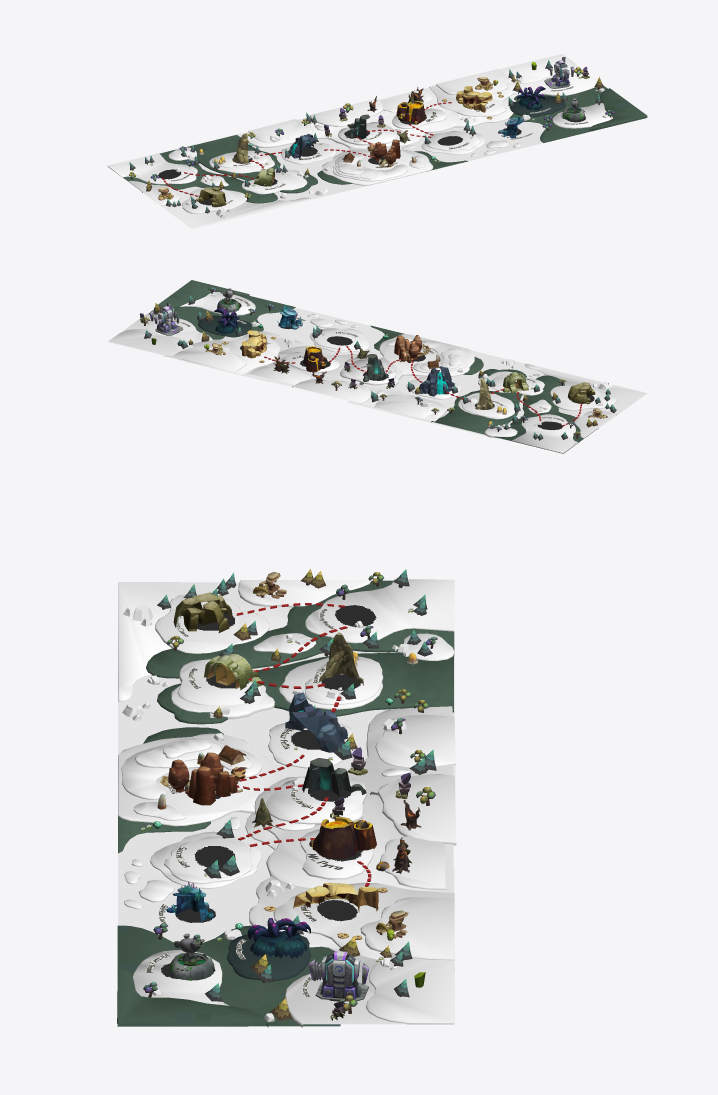
File: 06_02_Dia_Hinh_Lien_Luc_Dia.glb
The picture shows the model from 3 angles, top to bottom: view 1: azimuth 30°, elevation 25°; view 2: azimuth 150°, elevation 25°; view 3: azimuth 270°, elevation 25°; orthographic projection. The views are drawn at different scales.
Parts seen in each view (by area): view 1: 06_02_Dia_Hinh_Lien_Luc_Dia; view 2: 06_02_Dia_Hinh_Lien_Luc_Dia; view 3: 06_02_Dia_Hinh_Lien_Luc_Dia.
Boxes of the visible parts, box(x1,y1,x2,y2) form: 06_02_Dia_Hinh_Lien_Luc_Dia: box(107, 54, 647, 228); 06_02_Dia_Hinh_Lien_Luc_Dia: box(108, 280, 647, 453); 06_02_Dia_Hinh_Lien_Luc_Dia: box(117, 569, 456, 1027).
Size of the model in its own units: 214 by 10.87 by 78.79.
39 materials, 33 textured.
